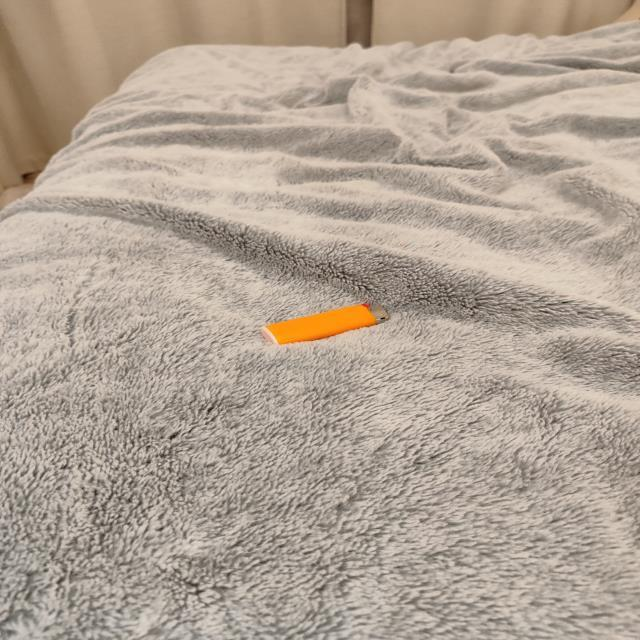lighter: (265, 304, 388, 345)
